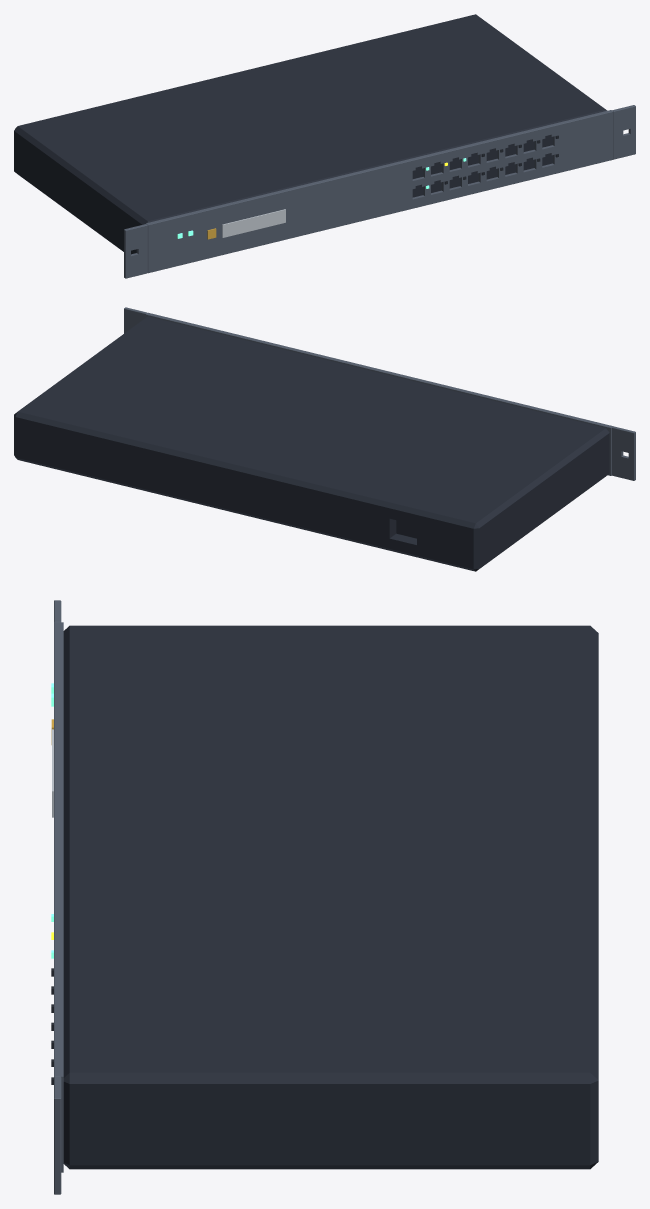
File: switch_16p_1u.glb
The picture shows the model from 3 angles, top to bottom: view 1: azimuth 30°, elevation 25°; view 2: azimuth 150°, elevation 25°; view 3: azimuth 270°, elevation 25°; orthographic projection. The views are drawn at different scales.
Visible parts, largest first — view 1: chassis, faceplate, ear_l, ear_r, label; view 2: chassis, faceplate, ear_l; view 3: chassis, faceplate, ear_r.
Boxes of the visible parts, bbox=[...] form: chassis: bbox=[14, 14, 607, 254]; faceplate: bbox=[146, 110, 613, 273]; ear_l: bbox=[124, 224, 147, 278]; ear_r: bbox=[612, 105, 635, 159]; label: bbox=[222, 209, 285, 237]; chassis: bbox=[14, 316, 609, 571]; faceplate: bbox=[145, 312, 613, 475]; ear_l: bbox=[612, 426, 635, 480]; chassis: bbox=[63, 625, 598, 1169]; faceplate: bbox=[54, 622, 63, 1172]; ear_r: bbox=[54, 1076, 61, 1194].
Bounding box in the file's own units: 0.4826 × 0.0437 × 0.2241.
